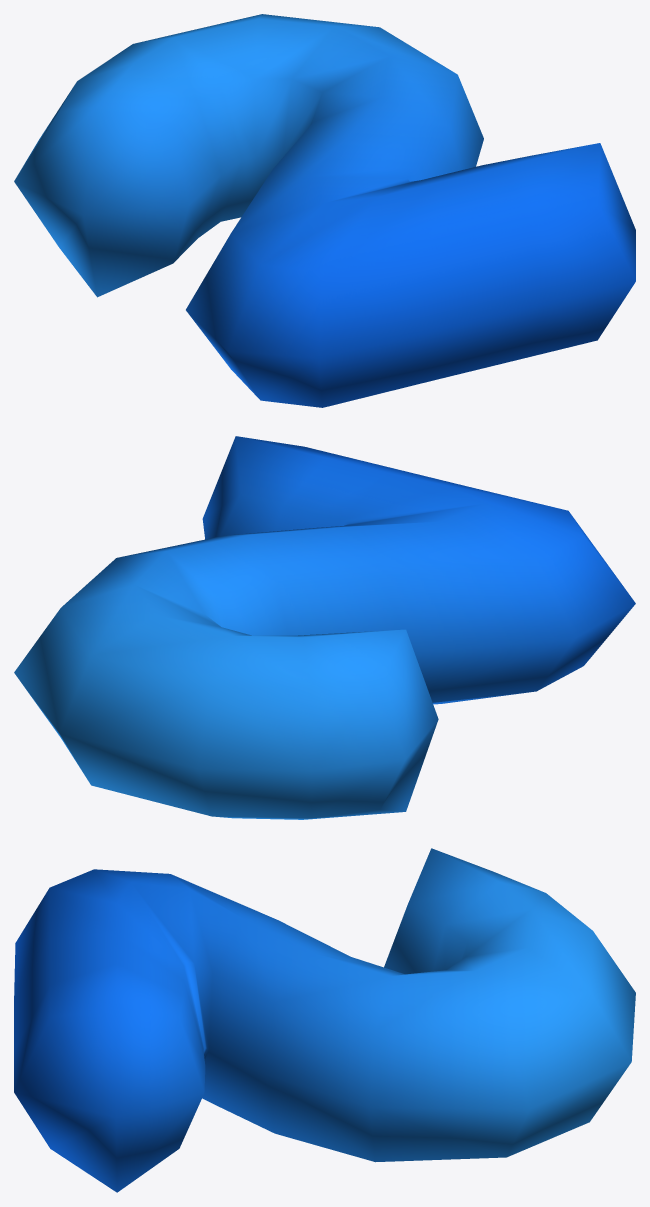
The model's file is CartoonFont_2.FBX.
The picture shows the model from 3 angles, top to bottom: view 1: azimuth 30°, elevation 25°; view 2: azimuth 150°, elevation 25°; view 3: azimuth 270°, elevation 25°; orthographic projection. The views are drawn at different scales.
Visible parts, largest first — view 1: 2; view 2: 2; view 3: 2.
Boxes of the visible parts, bbox=[...] form: 2: bbox=[14, 14, 635, 407]; 2: bbox=[14, 436, 635, 819]; 2: bbox=[14, 848, 635, 1192].
Size of the model in its own units: 22.74 by 9.62 by 29.46.
1 material, 1 textured.
